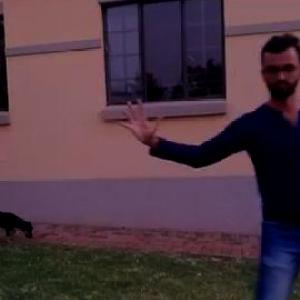follow_hand: (117, 97, 163, 143)
